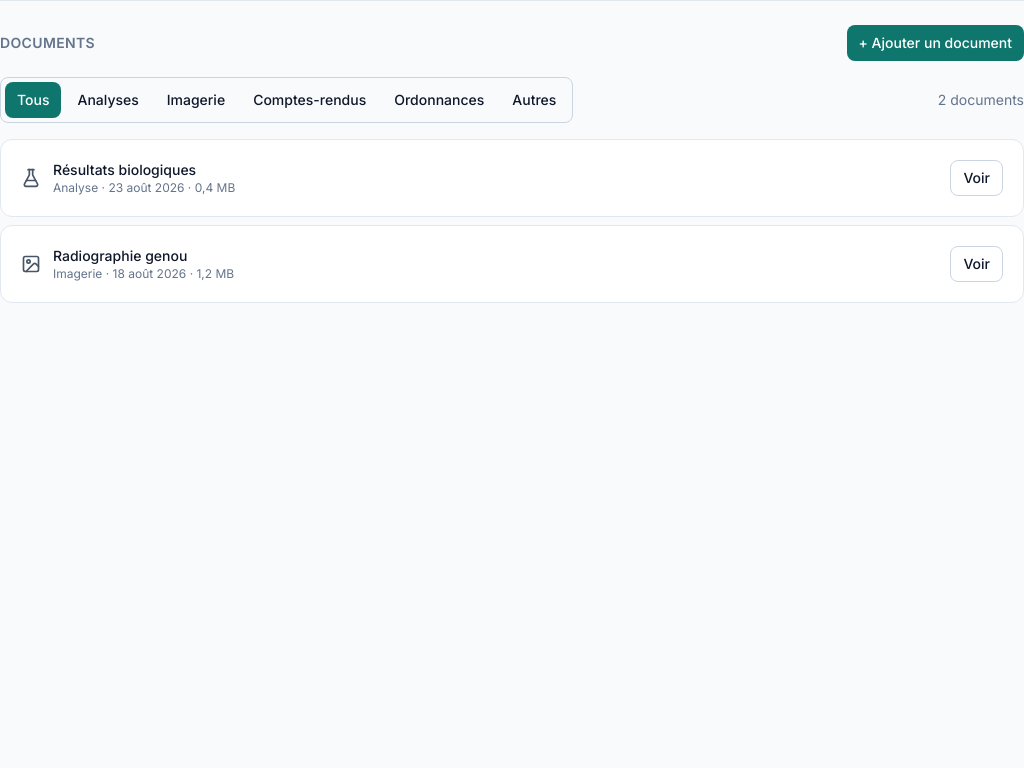
it: DocumentsSection › download is a future-feature notice only, never a real download (6)
Click the button "Voir" in the row of "1,2 MB".
click(977, 264)  # box x1=950 y1=246 x2=1003 y2=282
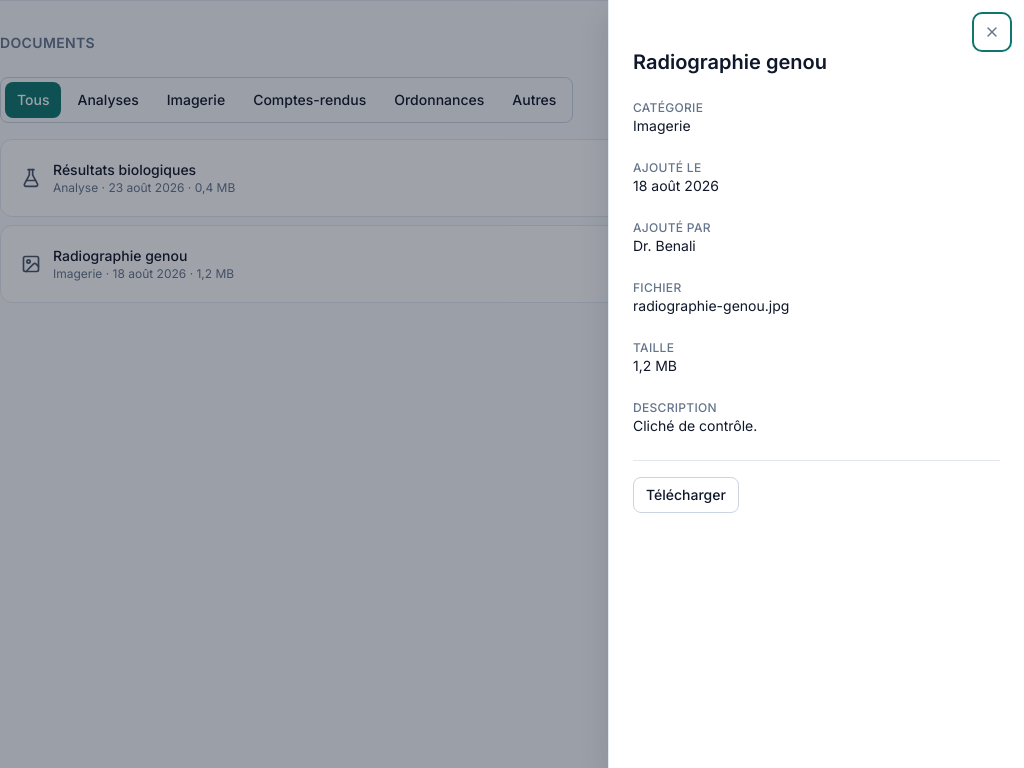
Click the button "Télécharger".
click(686, 495)  # box x1=633 y1=477 x2=739 y2=513
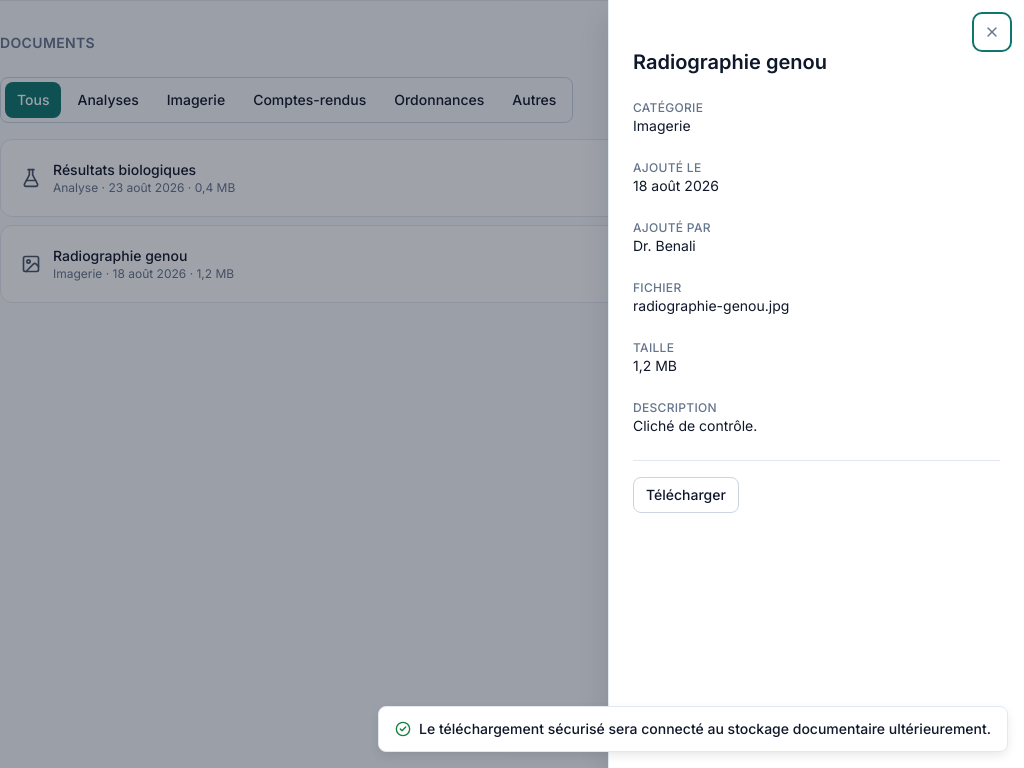
Now the text "Le téléchargement sécurisé sera connecté au stockage documentaire ultérieurement." is shown, box x1=419 y1=720 x2=991 y2=737
